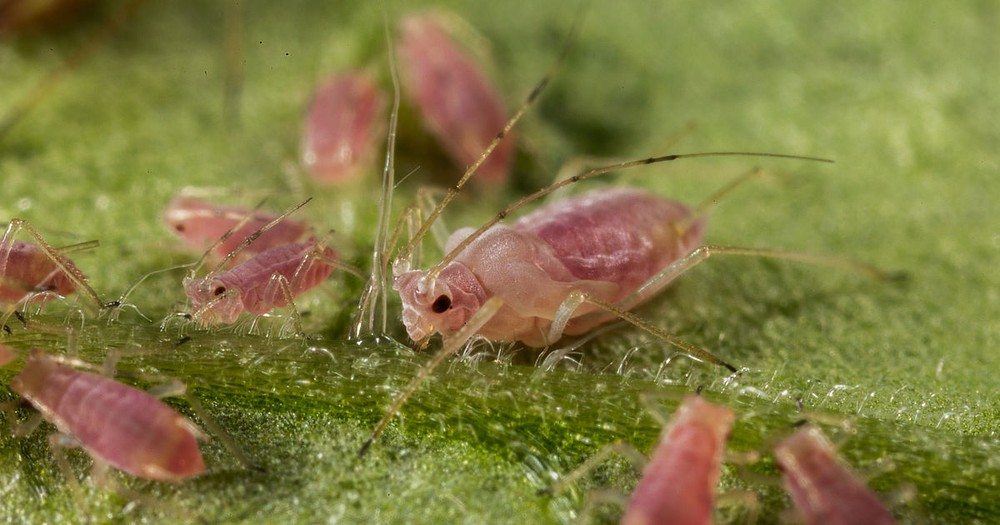Pulgon: (393, 124, 862, 388), (11, 320, 279, 518), (544, 382, 768, 522), (185, 211, 360, 357), (750, 410, 941, 525), (141, 178, 341, 263)
